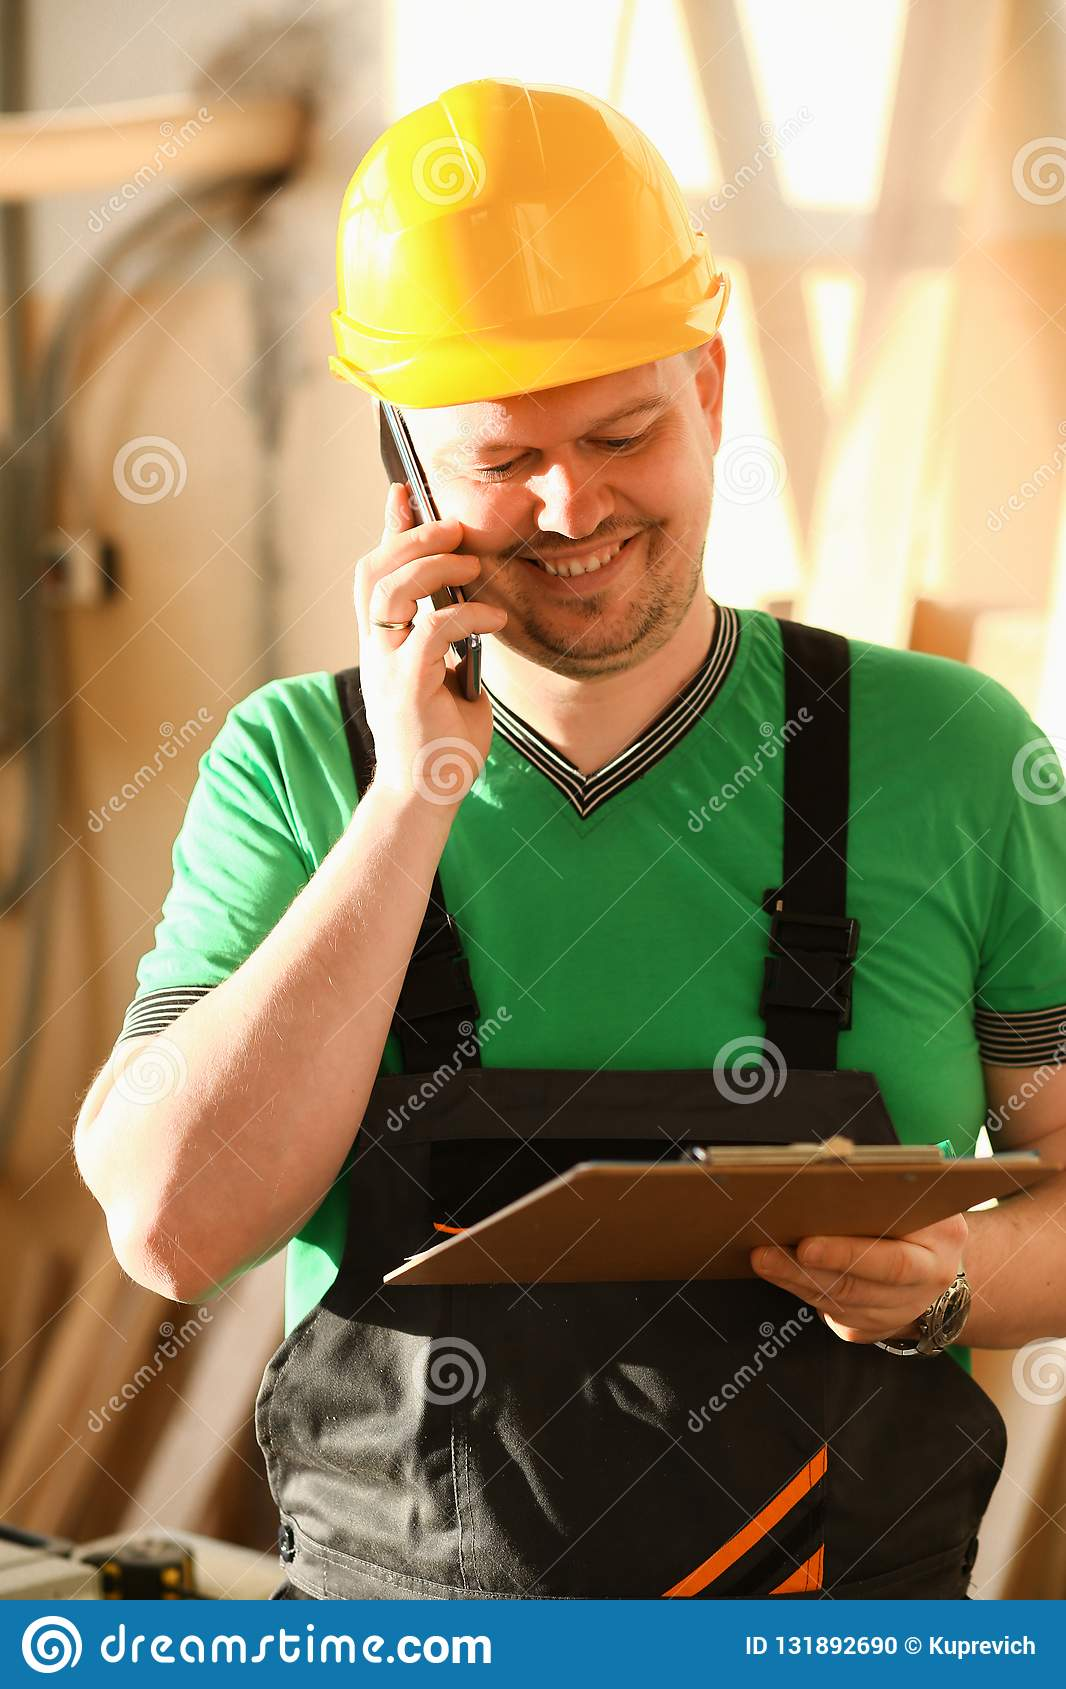phone: (375, 408, 492, 725)
talk: (345, 398, 702, 792)
